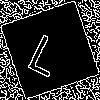L: (25, 25, 70, 78)
